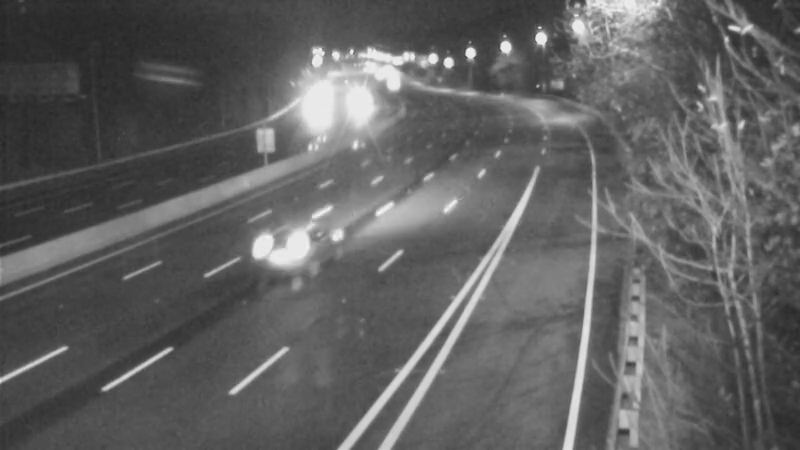vehicle: (253, 203, 333, 283), (368, 58, 418, 108), (288, 82, 338, 132), (336, 77, 386, 127)
